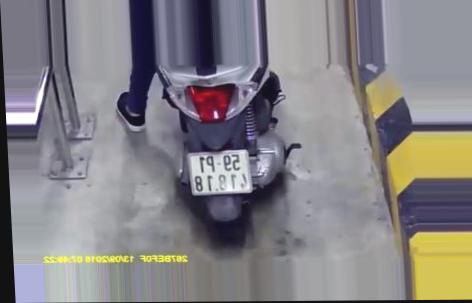License_Plate: (180, 145, 262, 202)
